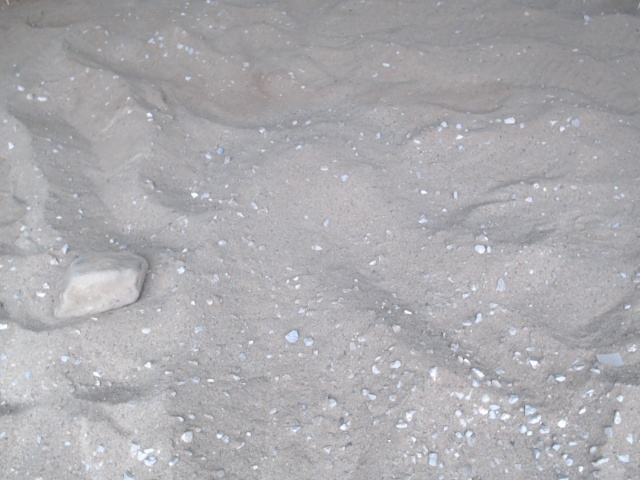rock: (47, 243, 155, 328)
